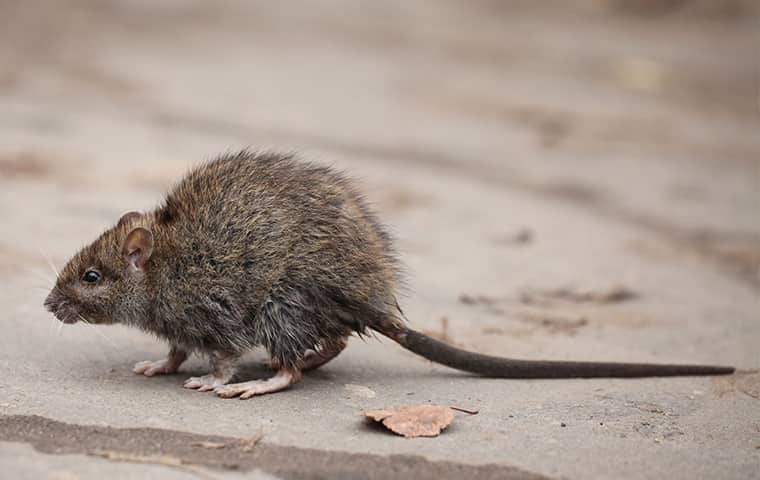rat: (34, 142, 436, 404)
